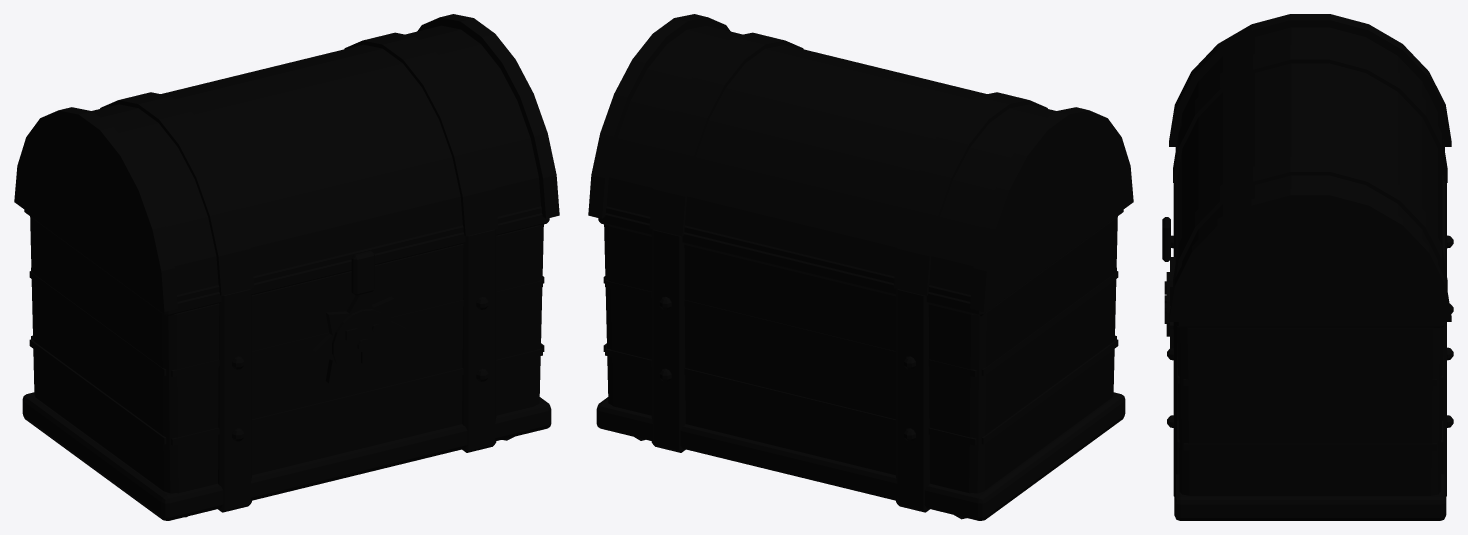
Rendered from grand_treasure_chest.unity-fbx.fbx.
The picture shows the model from 3 angles, left to right: view 1: azimuth 30°, elevation 25°; view 2: azimuth 150°, elevation 25°; view 3: azimuth 270°, elevation 25°; orthographic projection. The views are drawn at different scales.
Visible parts, largest first — view 1: chest_body, chest_lid; view 2: chest_body, chest_lid; view 3: chest_lid, chest_body.
Part boxes in pixels (left/top/right/bottom): chest_body: left=22, top=210, right=551, bottom=520; chest_lid: left=14, top=14, right=559, bottom=311; chest_body: left=596, top=210, right=1125, bottom=520; chest_lid: left=588, top=14, right=1133, bottom=311; chest_lid: left=1162, top=14, right=1451, bottom=321; chest_body: left=1164, top=145, right=1453, bottom=520.
Bounding box in the file's own units: 2.17 × 1.91 × 1.48.
Materials: 1 (1 with a texture image).
